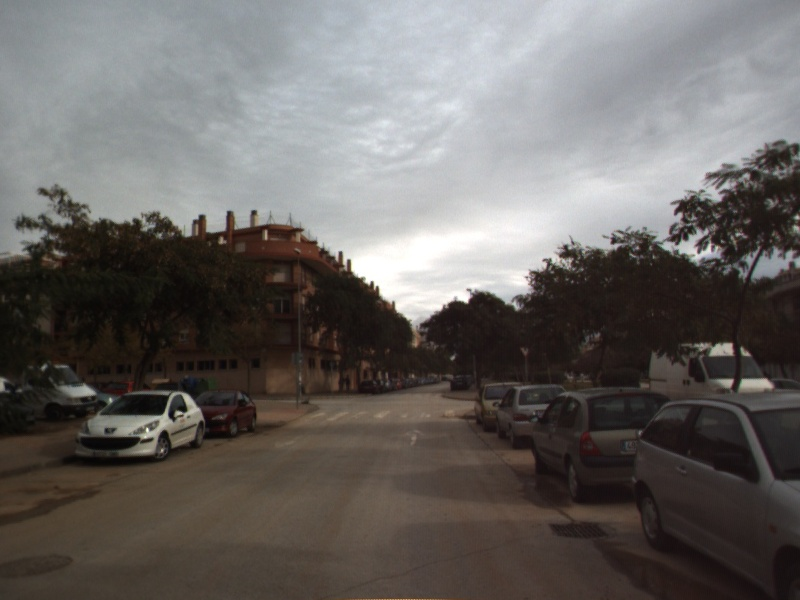STRAIGHT: (399, 427, 429, 448)
